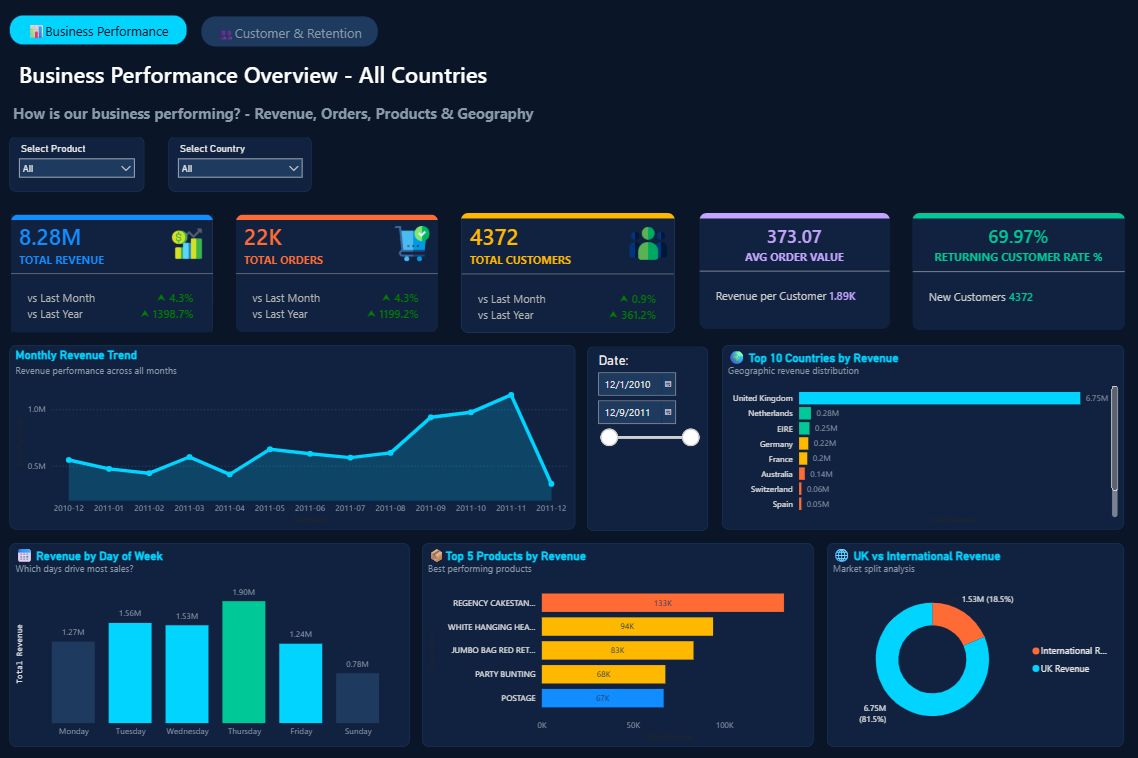

The page's visual inventory and layout, read from the dashboard file:
{"tool":"powerbi","page":{"name":"Business Performance","canvas":[1650,1100],"ordinal":0},"visuals":[{"type":"cardVisual","fields":{"Data":["_Measures.Avg Order Value"]},"box":[997.1,291.4,310,202.9],"z":0},{"type":"lineChart","title":"Monthly Revenue Trend","fields":{"Category":["Calendar.YearMonth"],"Y":["_Measures.Total Revenue"]},"box":[15,500,820,267.5],"z":1000},{"type":"barChart","title":"🌍 Top 10 Countries by Revenue","fields":{"Y":["_Measures.Total Revenue"],"Category":["Sheet1.Country"]},"box":[1047.5,500,582.5,267.5],"z":2000},{"type":"barChart","title":"📦Top 5 Products by Revenue","fields":{"Y":["_Measures.Total Revenue"],"Category":["Sheet1.Description"]},"box":[612.5,787.5,567.5,295],"z":3000},{"type":"columnChart","title":"📅 Revenue by Day of Week","fields":{"Category":["Calendar.DayName"],"Y":["_Measures.Total Revenue"]},"box":[15,787.5,580,295],"z":4000},{"type":"donutChart","title":"🌐 UK vs International Revenue","fields":{"Y":["_Measures.International Revenue","_Measures.UK Revenue"]},"box":[1200,787.5,430,295],"z":5000},{"type":"cardVisual","fields":{"Data":["_Measures.Returning Customer Rate %"]},"box":[1307.1,291.4,342.9,204.3],"z":6000},{"type":"slicer","fields":{"Values":["Sheet1.Country"]},"box":[245,197.5,207.5,80],"z":7000},{"type":"slicer","fields":{"Values":["Sheet1.Description"]},"box":[15,197.5,195,80],"z":8000},{"type":"cardVisual","fields":{"Data":["_Measures.Total Revenue"]},"box":[0,294.3,327.1,205.7],"z":9000},{"type":"cardVisual","fields":{"Data":["_Measures.Total Orders"]},"box":[327.1,294.3,327.1,205.7],"z":10000},{"type":"cardVisual","fields":{"Data":["_Measures.Total Customers"]},"box":[652.9,291.4,344.3,208.6],"z":11000},{"type":"textbox","box":[15,142.5,1615,55],"z":12000},{"type":"slicer","fields":{"Values":["Calendar.Date"]},"box":[852.5,502.5,175,267.5],"z":13000},{"type":"actionButton","box":[15.1,22.7,257.4,43.5],"z":14000},{"type":"actionButton","box":[293.4,24.6,255.5,43.5],"z":15000},{"type":"cardVisual","fields":{"Data":["_Measures.Dynamic Title"]},"box":[0,70,1580,72.5],"z":16000}]}

Visuals, with their boxes in screenshot pixels (x1, y1, x2, y2), scaled from the page's 1650x1100 canvas onto the 1138x758 screenshot:
cardVisual - _Measures.Avg Order Value: Rect(688, 201, 902, 341)
"Monthly Revenue Trend" lineChart: Rect(10, 345, 576, 529)
"🌍 Top 10 Countries by Revenue" barChart: Rect(722, 345, 1124, 529)
"📦Top 5 Products by Revenue" barChart: Rect(422, 543, 814, 746)
"📅 Revenue by Day of Week" columnChart: Rect(10, 543, 410, 746)
"🌐 UK vs International Revenue" donutChart: Rect(828, 543, 1124, 746)
cardVisual - _Measures.Returning Customer Rate %: Rect(902, 201, 1137, 342)
slicer - Sheet1.Country: Rect(169, 136, 312, 191)
slicer - Sheet1.Description: Rect(10, 136, 145, 191)
cardVisual - _Measures.Total Revenue: Rect(0, 203, 226, 345)
cardVisual - _Measures.Total Orders: Rect(226, 203, 451, 345)
cardVisual - _Measures.Total Customers: Rect(450, 201, 688, 345)
textbox: Rect(10, 98, 1124, 136)
slicer - Calendar.Date: Rect(588, 346, 709, 531)
actionButton: Rect(10, 16, 188, 46)
actionButton: Rect(202, 17, 379, 47)
cardVisual - _Measures.Dynamic Title: Rect(0, 48, 1090, 98)
